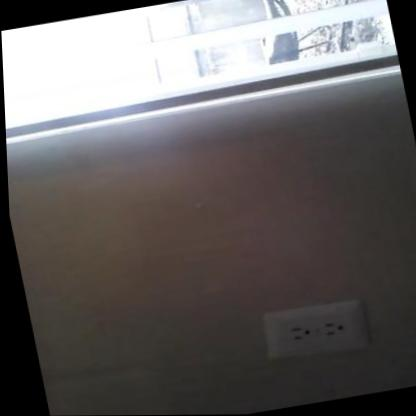OUTLET: (258, 298, 369, 363)
